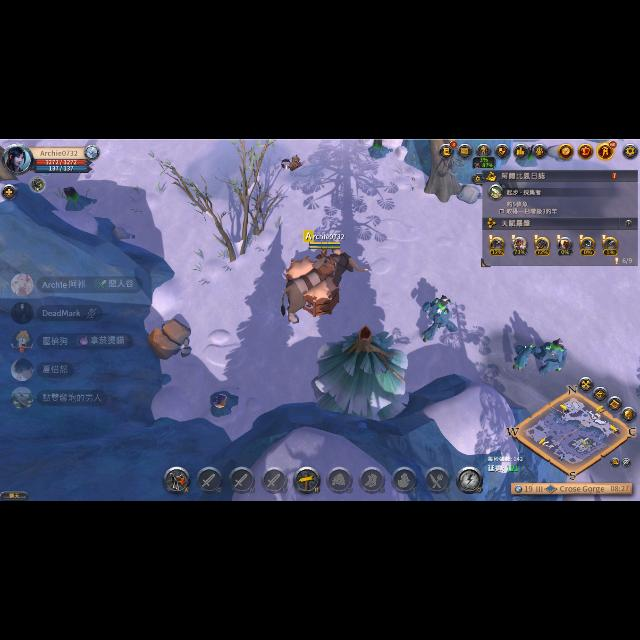mine_ii: (208, 392, 238, 416)
mine_iii: (61, 187, 98, 211), (365, 140, 393, 158)
